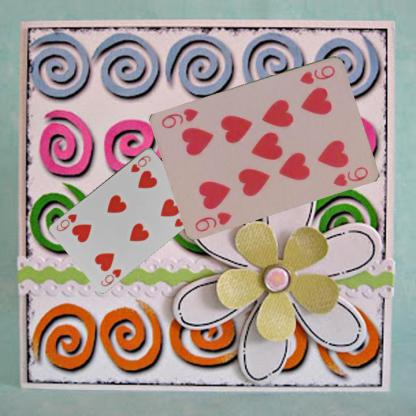6h: (98, 266, 123, 288), (128, 152, 152, 174)
9h: (192, 208, 233, 233), (297, 62, 336, 85)
